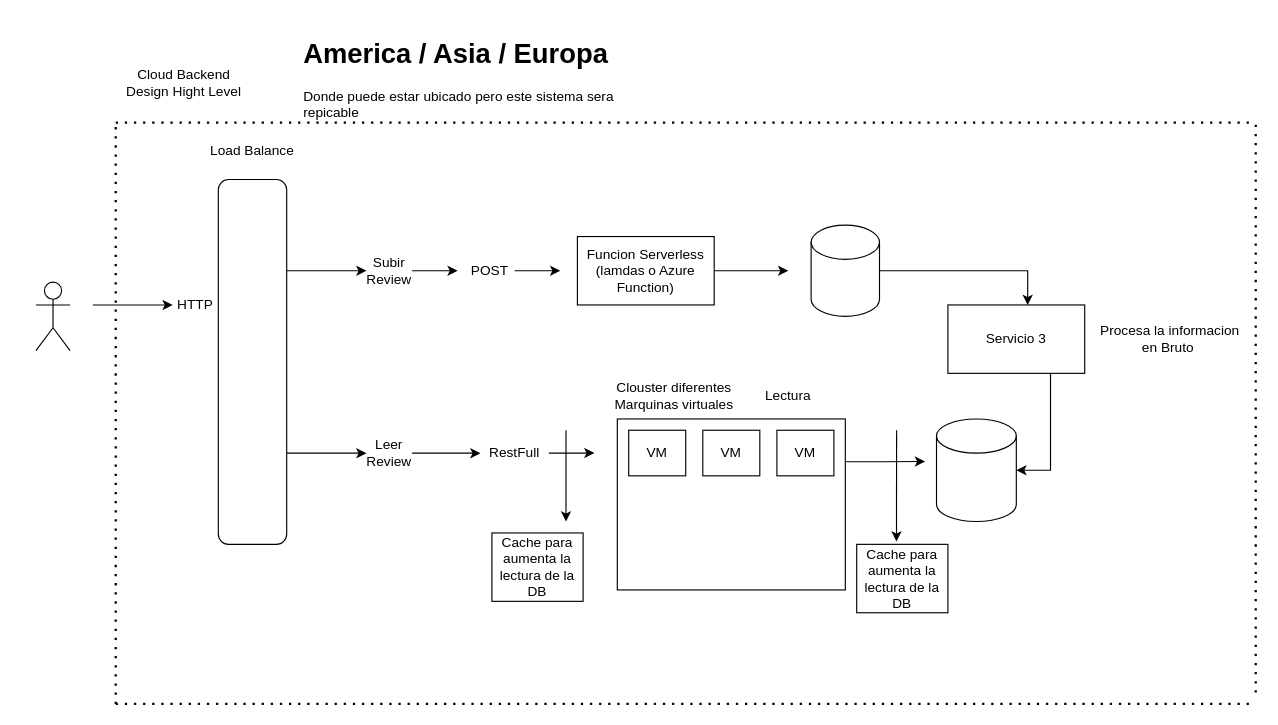
This 1278x725 diagram has some shape labels left out. The shapes that lost their labels are listed below. From the top down, each one's centre as x and y in pixels, then its label:
At point 845,270: "NoSQL".
At point 52,316: "WEB/Movil".
At point 975,470: "DB - Relational".
